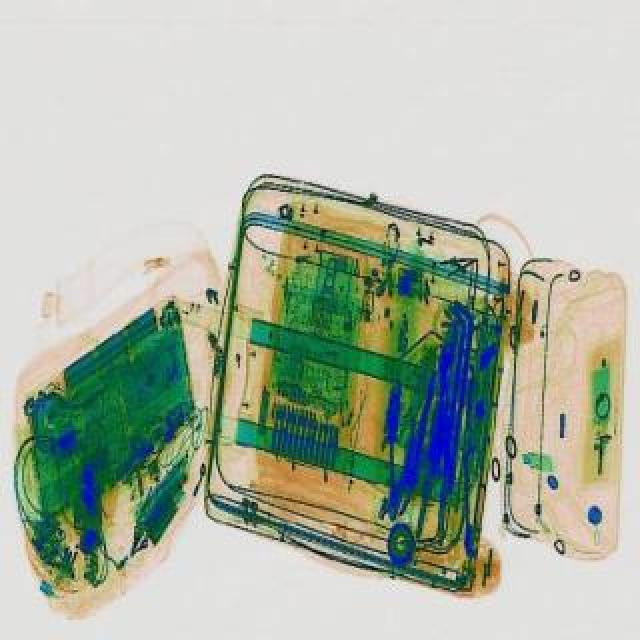wrench: (378, 412, 418, 520)
